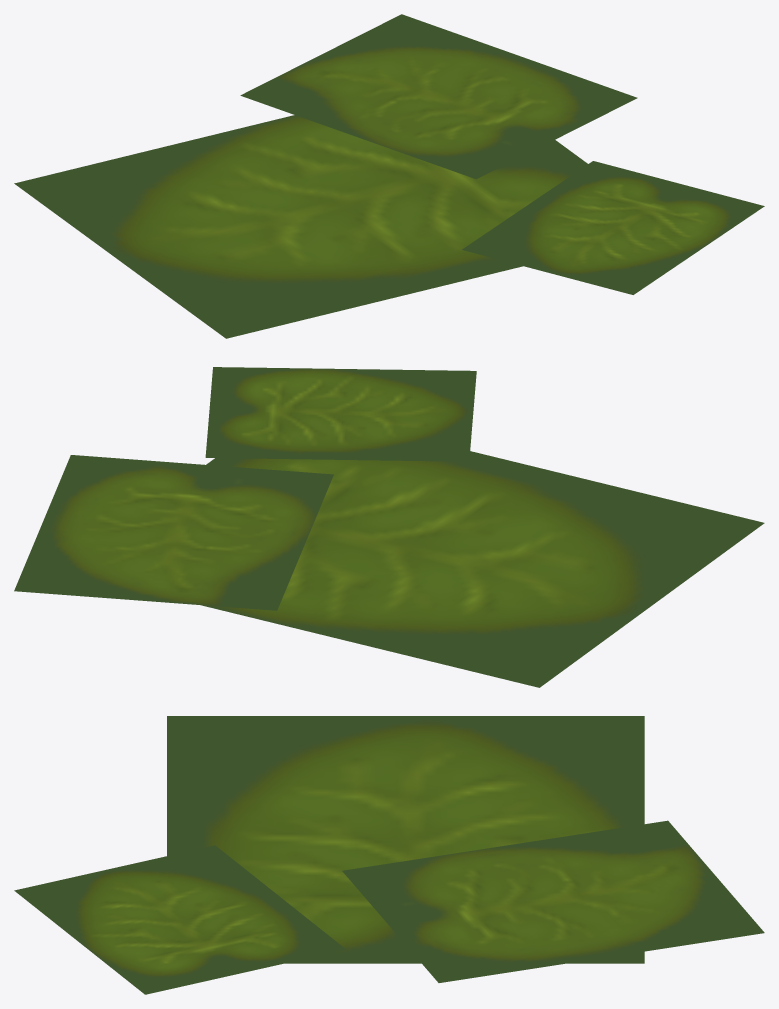
Rendered from Water_lily_03.FBX.
3 renders of one model, top to bottom at view 1: azimuth 30°, elevation 25°; view 2: azimuth 150°, elevation 25°; view 3: azimuth 270°, elevation 25°, orthographic. The views are drawn at different scales.
Visible parts, largest first — view 1: Water_lily_03; view 2: Water_lily_03; view 3: Water_lily_03.
Part boxes in pixels (x1,y1,x2,y2): Water_lily_03: (14, 14, 764, 338); Water_lily_03: (14, 367, 764, 687); Water_lily_03: (14, 716, 764, 994).
Size of the model in its own units: 68.74 by 2.78 by 74.59.
